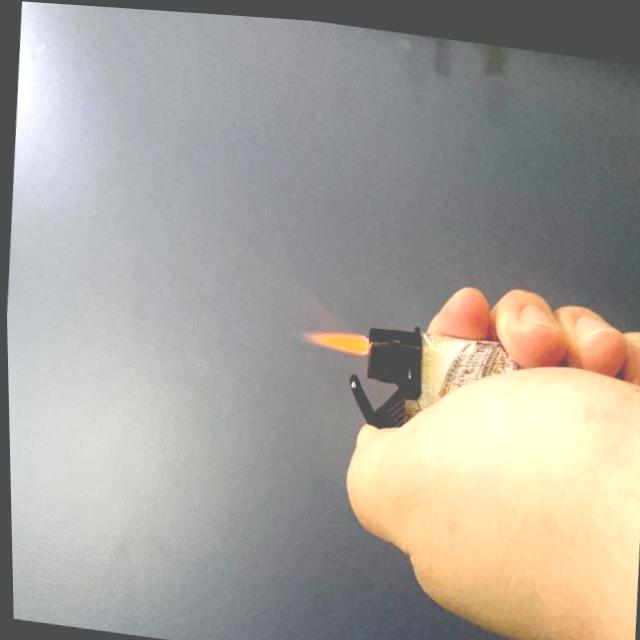helmet: (295, 315, 370, 355)
